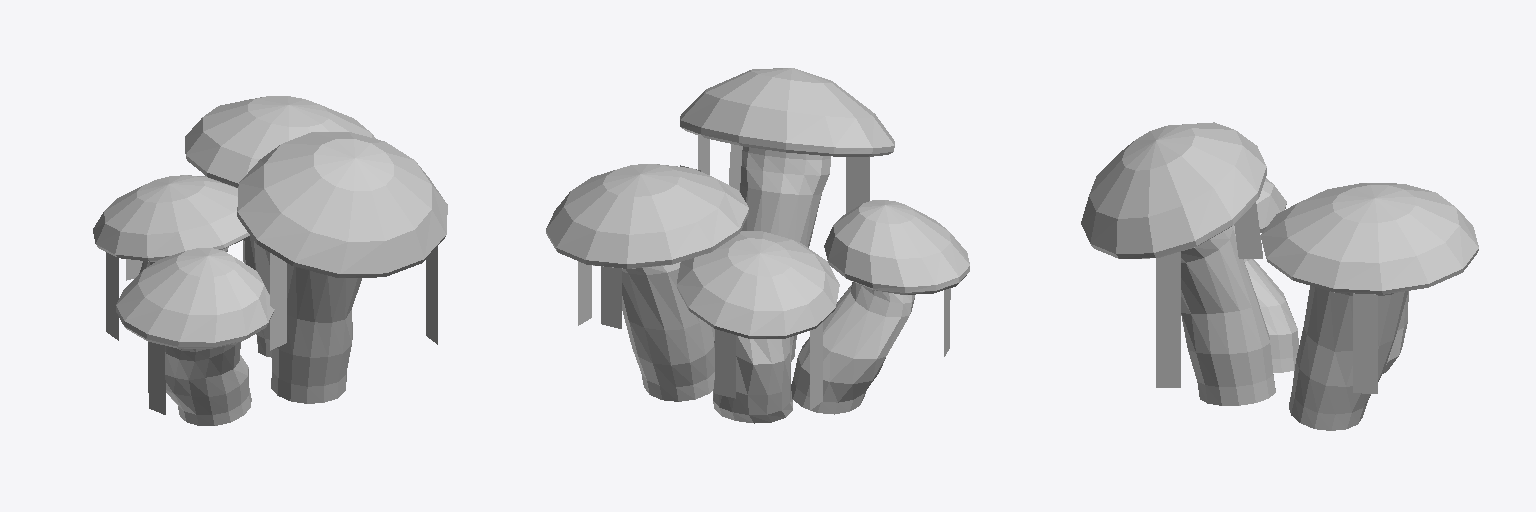
File: mushroom_01.obj
3 renders of one model, left to right at view 1: azimuth 30°, elevation 25°; view 2: azimuth 150°, elevation 25°; view 3: azimuth 270°, elevation 25°, orthographic.
Visible parts, largest first — view 1: Cylinder.004, Cylinder.003, Cylinder.002, Cylinder.001, Plane.002, Plane.010, Plane.001, Plane.009; view 2: Cylinder.001, Cylinder.004, Cylinder.003, Cylinder.002, Plane.008, Plane.005, Plane.002, Plane.009, Plane.004; view 3: Cylinder.004, Cylinder.001, Cylinder.003, Plane.001, Plane.004, Plane.003, Cylinder.002.
Part boxes in pixels (x1,y1,x2,y2): Cylinder.004: (237,132,447,403); Cylinder.003: (116,248,274,425); Cylinder.002: (93,175,249,273); Cylinder.001: (185,96,375,357); Plane.002: (270,253,286,350); Plane.010: (148,342,165,414); Plane.001: (426,246,437,344); Plane.009: (106,252,118,340); Cylinder.001: (546,164,748,401); Cylinder.004: (680,68,894,362); Cylinder.003: (791,200,969,414); Cylinder.002: (677,231,839,423); Plane.008: (715,329,735,398); Plane.005: (601,266,621,328); Plane.002: (846,157,869,212); Plane.009: (810,322,822,410); Plane.004: (578,261,591,325); Cylinder.004: (1081,122,1275,405); Cylinder.001: (1261,183,1478,430); Cylinder.003: (1232,178,1298,372); Plane.001: (1156,252,1180,387); Plane.004: (1353,293,1377,393); Plane.003: (1234,202,1262,258); Cylinder.002: (1383,291,1408,373).
Size of the model in its own units: 2.75 by 2.25 by 2.93.